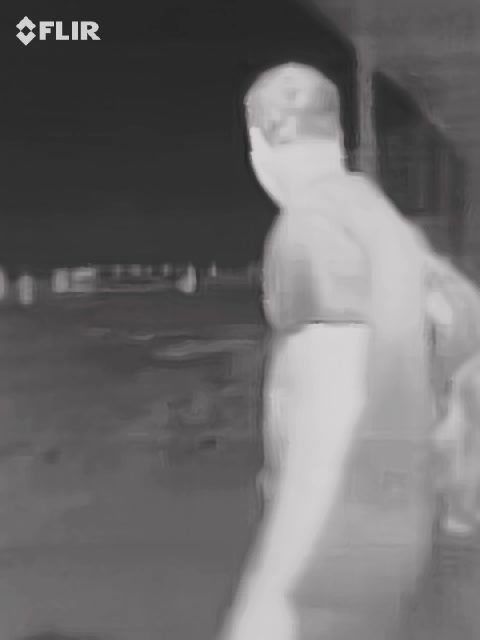head: (237, 60, 347, 200)
